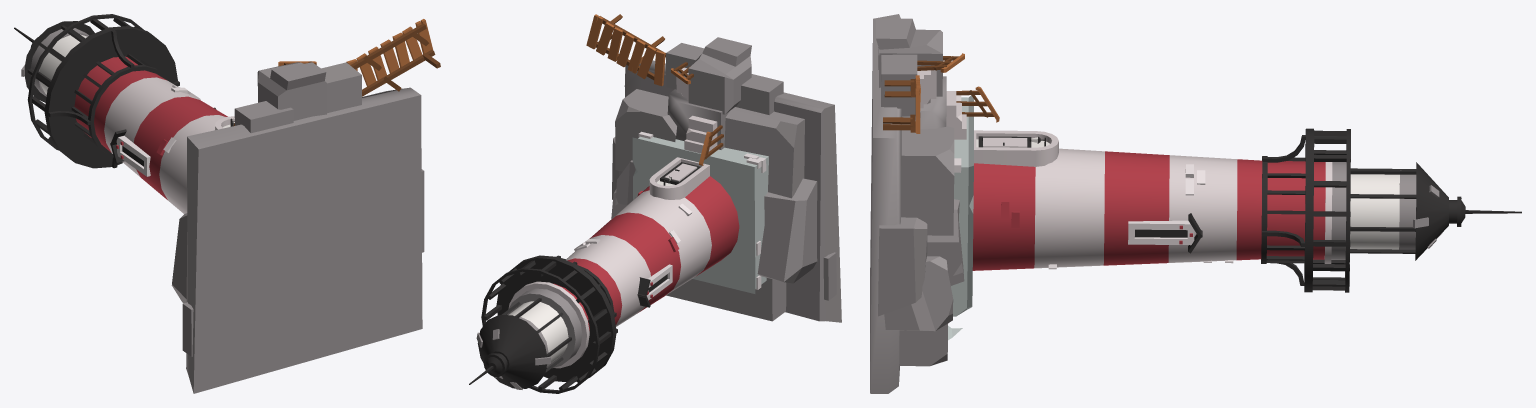
File: lighthouse.glb
The picture shows the model from 3 angles, left to right: view 1: azimuth 30°, elevation 25°; view 2: azimuth 150°, elevation 25°; view 3: azimuth 270°, elevation 25°; orthographic projection. The views are drawn at different scales.
Visible parts, largest first — view 1: node-0; view 2: node-0; view 3: node-0.
Boxes of the visible parts, x1=… form: node-0: x1=14, y1=14, x2=440, y2=393; node-0: x1=469, y1=14, x2=841, y2=393; node-0: x1=870, y1=14, x2=1521, y2=393.
Size of the model in its own units: 10.05 by 10.9 by 19.75.
Materials: 1 (1 with a texture image).
